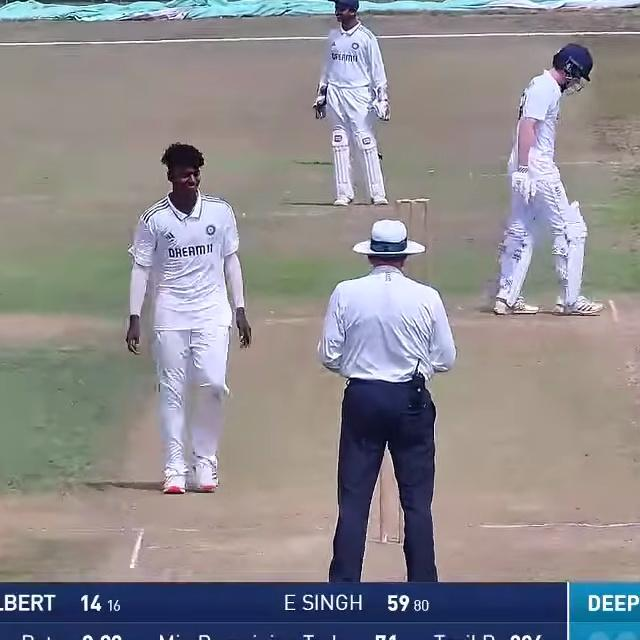umpire: (302, 208, 472, 586)
